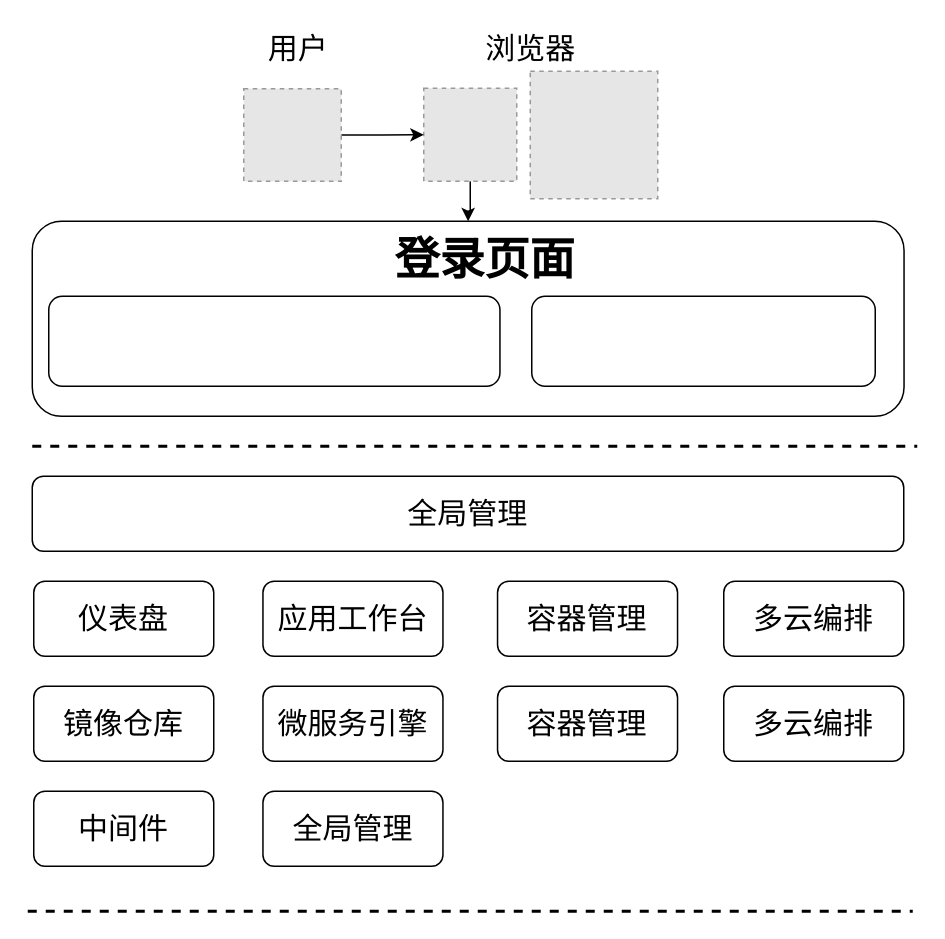
The diagram is 945 pixels wide and 939 high, and some of its shapes have lost their labels. Grey dashed boxes stand in for pictures. The box of each missing label's shape, as (x1, y1, x2, y2) in pixels:
登录 （keycloak 开源登录认证方式）: (47, 295, 500, 386)
统一认证 （公共服务oauth2）: (530, 295, 875, 386)
